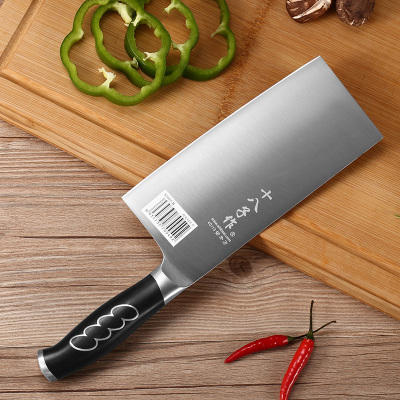knief: (49, 61, 380, 384)
